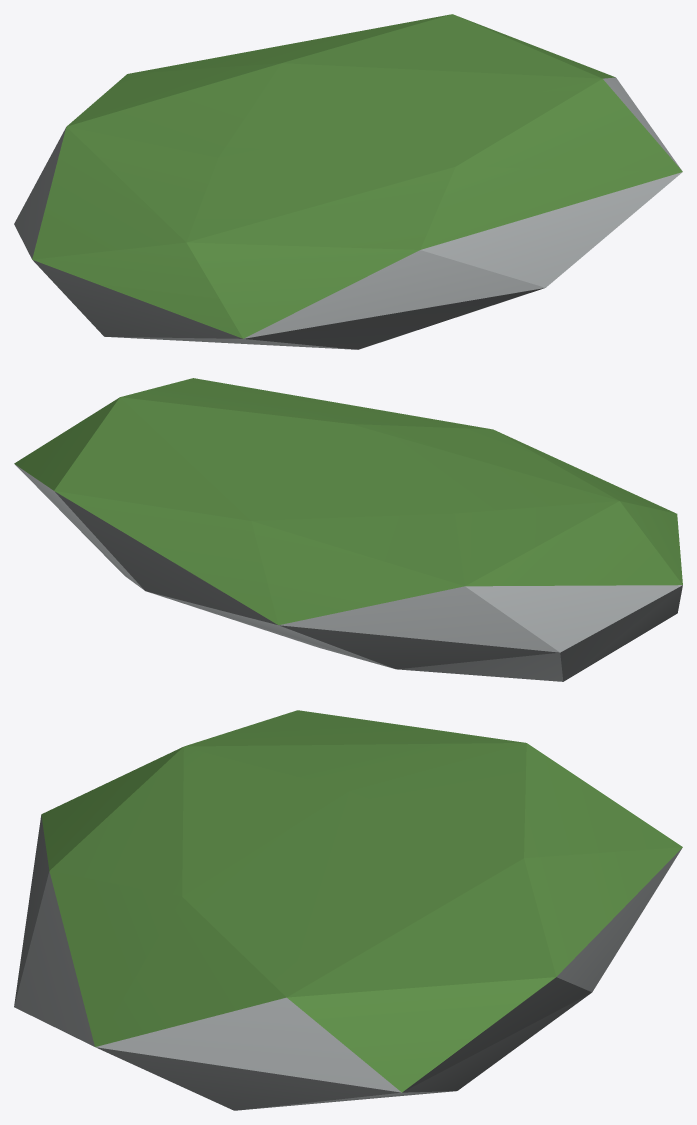
The model's file is rock_1.glb.
The picture shows the model from 3 angles, top to bottom: view 1: azimuth 30°, elevation 25°; view 2: azimuth 150°, elevation 25°; view 3: azimuth 270°, elevation 25°; orthographic projection. The views are drawn at different scales.
Parts seen in each view (by area): view 1: rock_1; view 2: rock_1; view 3: rock_1.
Part boxes in pixels (<box>): rock_1: <box>14,14,682,349</box>; rock_1: <box>14,378,682,681</box>; rock_1: <box>14,710,682,1110</box>.
Size of the model in its own units: 2.29 by 0.513 by 1.7.
